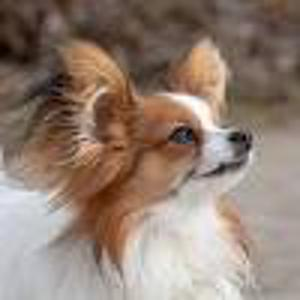yell: (0, 35, 253, 300)
